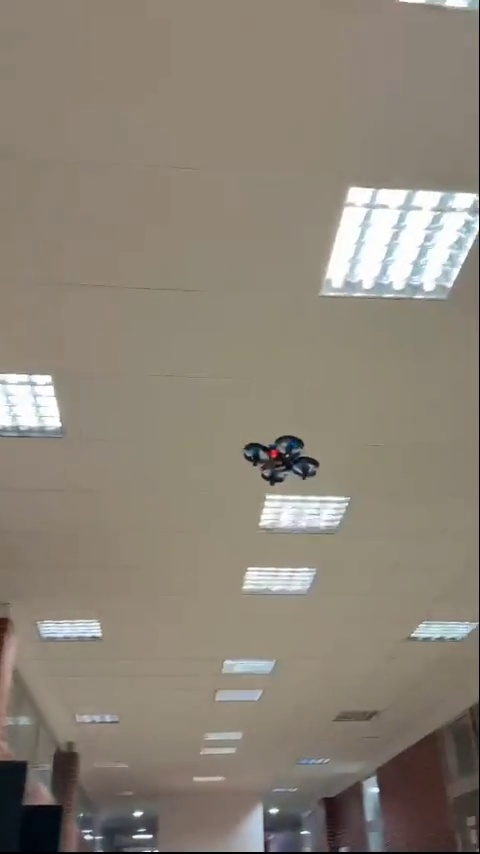drone: (249, 427, 313, 496)
